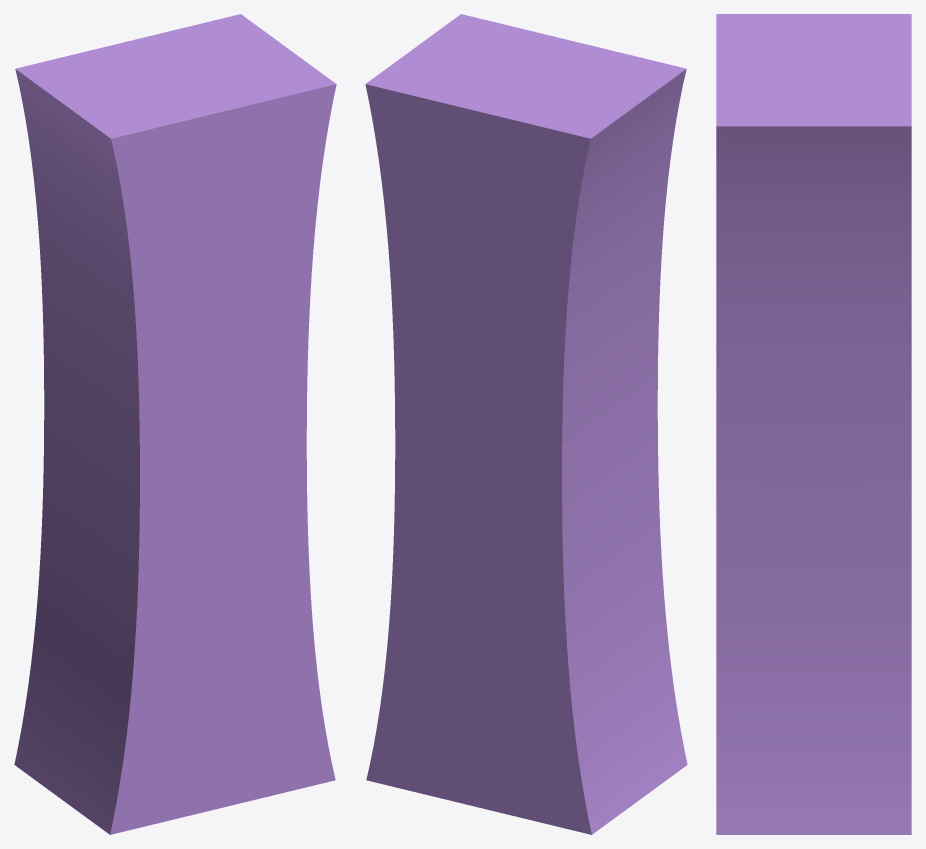
The model's file is pillar.gltf.
The picture shows the model from 3 angles, left to right: view 1: azimuth 30°, elevation 25°; view 2: azimuth 150°, elevation 25°; view 3: azimuth 270°, elevation 25°; orthographic projection.
Size of the model in its own units: 0.0546 by 0.1604 by 0.04.
